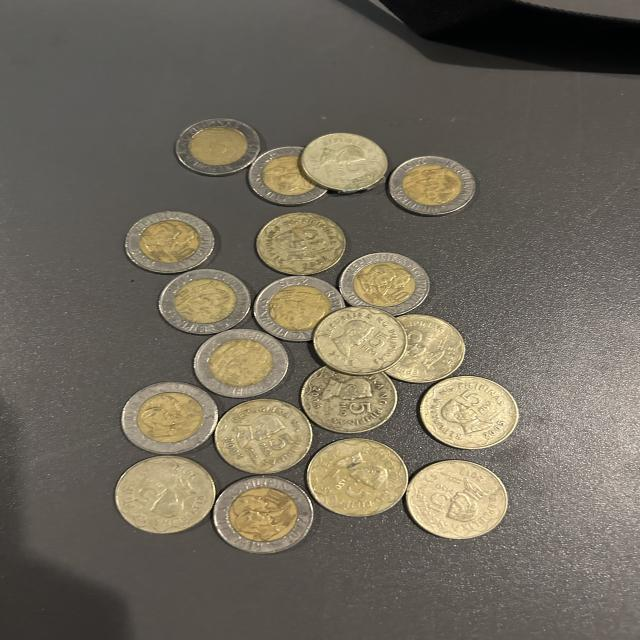5_Old_Front: (417, 377, 519, 449), (312, 306, 406, 372)
